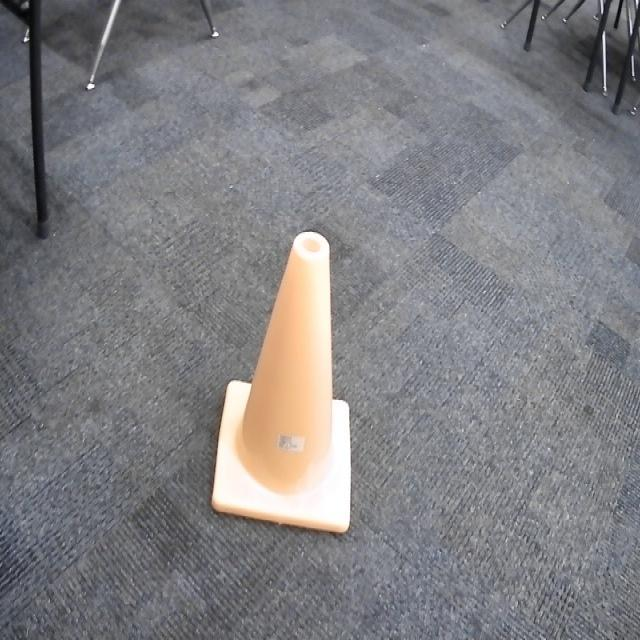cone: (210, 227, 360, 542)
